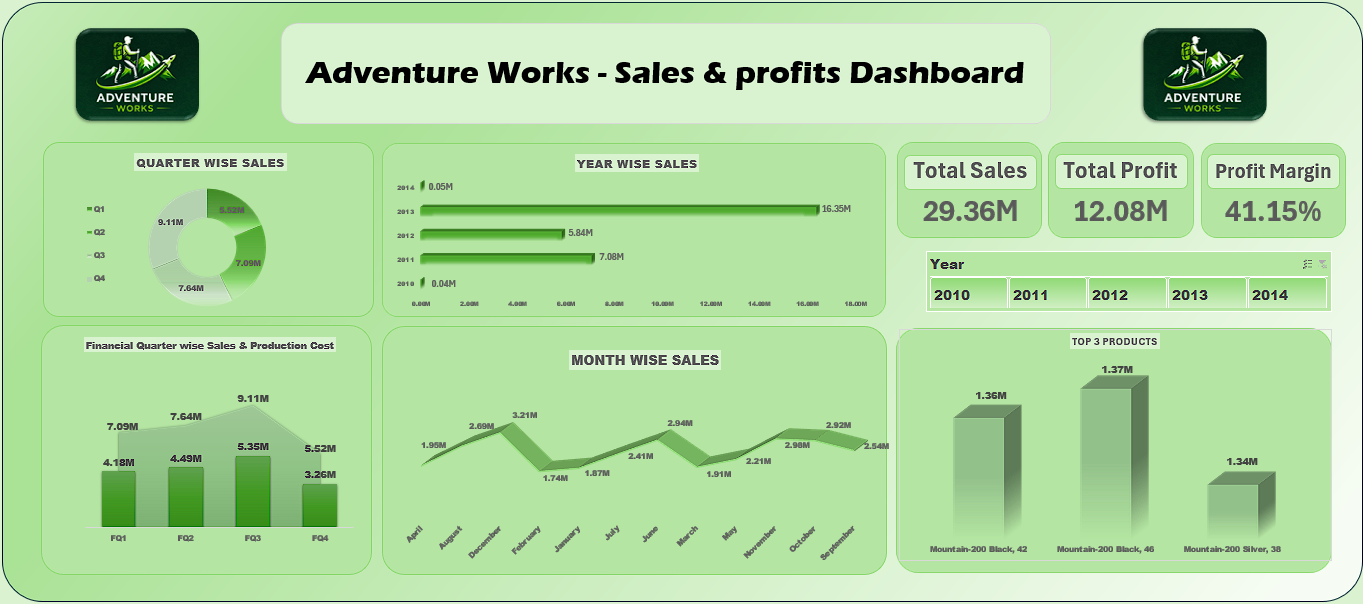

The dashboard page shown, as its layout file describes it:
{"tool":"powerbi","page":{"name":"Page 1","canvas":[1280,720],"ordinal":5},"visuals":[{"type":"shape","box":[146.7,468.3,240.9,19.6],"z":0},{"type":"shape","box":[612,214.7,180,23.6],"z":1000},{"type":"shape","box":[110.6,218.2,195.1,23],"z":2000},{"type":"shape","box":[803.4,469.6,179.8,23.2],"z":3000},{"type":"textbox","title":"Adventure Works","box":[199.4,16.4,879.8,75.7],"z":4000},{"type":"barChart","title":"Year-wise Sales","fields":{"Category":["Financial_sales.Year"],"Y":["Sum(Financial_sales.SalesAmount)"]},"box":[407.8,209.2,586.9,245.8],"z":5000},{"type":"lineChart","title":"Month-wise Sales","fields":{"Category":["Financial_sales.Month_Full_Name"],"Y":["Sum(Financial_sales.SalesAmount)"]},"box":[528.3,462.2,733.7,238.5],"z":6000},{"type":"pieChart","title":"Quarter-wise Sales","fields":{"Category":["Financial_sales.Quarter"],"Y":["Sum(Financial_sales.SalesAmount)"]},"box":[17.1,210.3,380.3,245.8],"z":7000},{"type":"lineStackedColumnComboChart","title":"Financial Quarter-wise Sales","fields":{"Category":["Financial_sales.Finacial_Quarter"],"Y2":["Sum(Financial_sales.SalesAmount)"],"Y":["Sum(Financial_sales.Production_Cost)"]},"box":[17.1,462.2,501.4,238.5],"z":8000},{"type":"shape","box":[232.3,121.1,119.8,41.6],"z":9000},{"type":"card","title":"Total Profits","fields":{"Values":["Sum(Financial_sales.Profit)"]},"box":[207.9,101.5,168.8,96.6],"z":10000},{"type":"shape","box":[926.9,122.3,118.6,39.1],"z":11000},{"type":"card","title":"Total Sales","fields":{"Values":["Sum(Financial_sales.Sales_Amount)"]},"box":[902.5,101.5,167.5,96.6],"z":12000},{"type":"shape","box":[583.2,122.4,118.7,39.1],"z":13000},{"type":"card","title":"Total Sales","fields":{"Values":["DimDate.Profit Margin %"]},"box":[556.7,102.2,167.9,97.2],"z":14000},{"type":"shape","box":[1099.8,213.5,74.5,24.8],"z":15000},{"type":"slicer","title":"Years","fields":{"Values":["Financial_sales.Year"]},"box":[1005.2,210.5,256.2,244.4],"z":16000},{"type":"image","box":[207.5,19.3,95.3,72.4],"z":17000},{"type":"image","box":[974.8,19.3,95.3,72.4],"z":18000}]}

Visuals, with their boxes on the page's 1280x720 design canvas (x1, y1, x2, y2). These are canvas units, not pixel positions in the 1363x604 screenshot, which may show the page scaled, cropped or inside an application window:
shape: bbox=[147, 468, 388, 488]
shape: bbox=[612, 215, 792, 238]
shape: bbox=[111, 218, 306, 241]
shape: bbox=[803, 470, 983, 493]
"Adventure Works" textbox: bbox=[199, 16, 1079, 92]
"Year-wise Sales" barChart: bbox=[408, 209, 995, 455]
"Month-wise Sales" lineChart: bbox=[528, 462, 1262, 701]
"Quarter-wise Sales" pieChart: bbox=[17, 210, 397, 456]
"Financial Quarter-wise Sales" lineStackedColumnComboChart: bbox=[17, 462, 518, 701]
shape: bbox=[232, 121, 352, 163]
"Total Profits" card: bbox=[208, 102, 377, 198]
shape: bbox=[927, 122, 1046, 161]
"Total Sales" card: bbox=[902, 102, 1070, 198]
shape: bbox=[583, 122, 702, 162]
"Total Sales" card: bbox=[557, 102, 725, 199]
shape: bbox=[1100, 214, 1174, 238]
"Years" slicer: bbox=[1005, 210, 1261, 455]
image: bbox=[208, 19, 303, 92]
image: bbox=[975, 19, 1070, 92]
